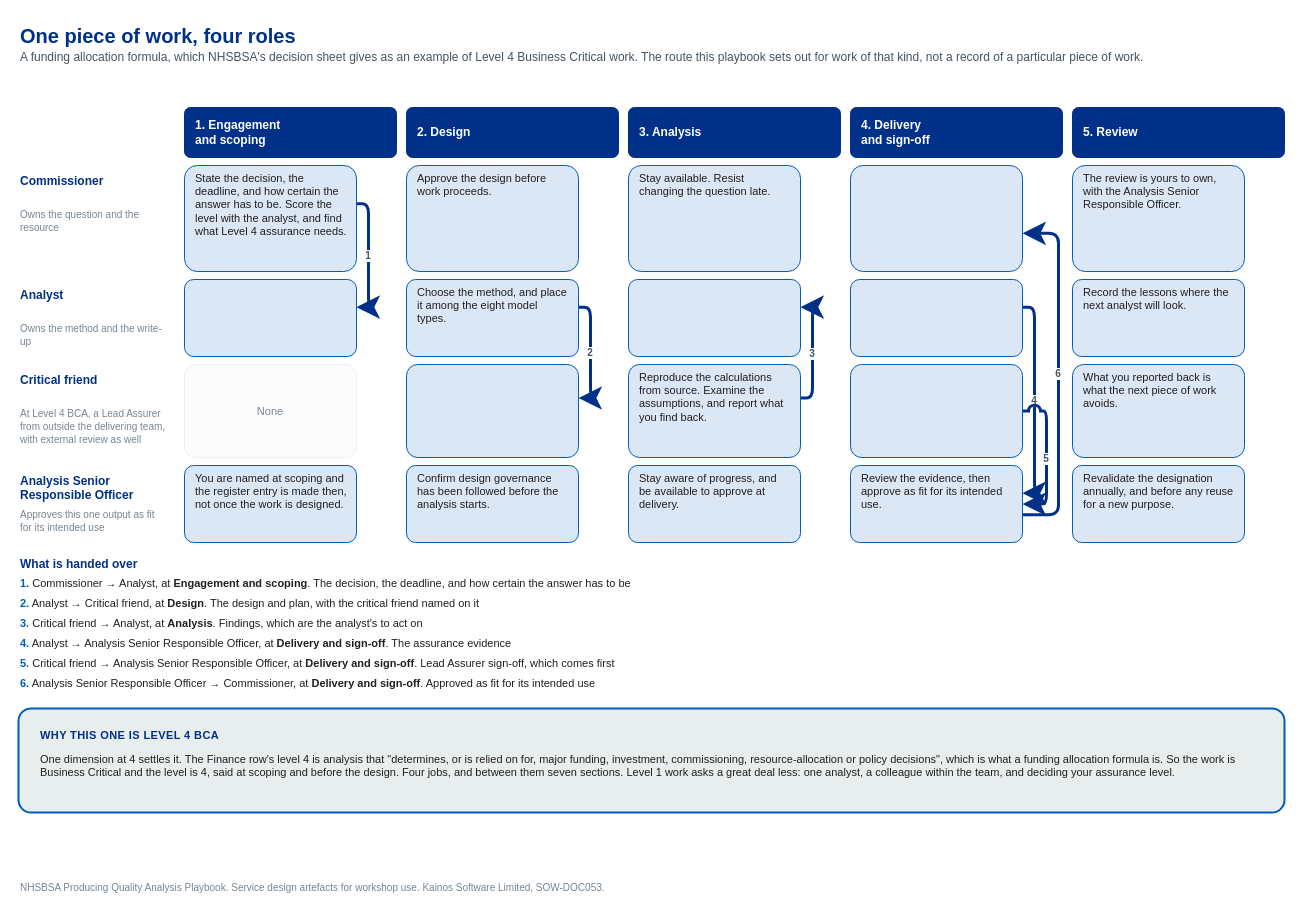
Some shapes in this 1302 by 911 pixel diagram are drawn without their labels. Each missing label, with the box of its shape:
Clarify the real question. Record the scope, the boundaries and the assumptions.: (184, 278, 356, 356)
Confirm it meets your need and apply its limitations.: (850, 164, 1022, 272)
Do your own checks first. Log decisions as you go, and quantify the uncertainty.: (628, 278, 800, 356)
Sign off as Lead Assurer, which comes before the approval below.: (850, 364, 1022, 458)
Write it up, with the caveats in the output itself.: (850, 278, 1022, 356)
You are named at design, not found at delivery.: (406, 364, 578, 458)
